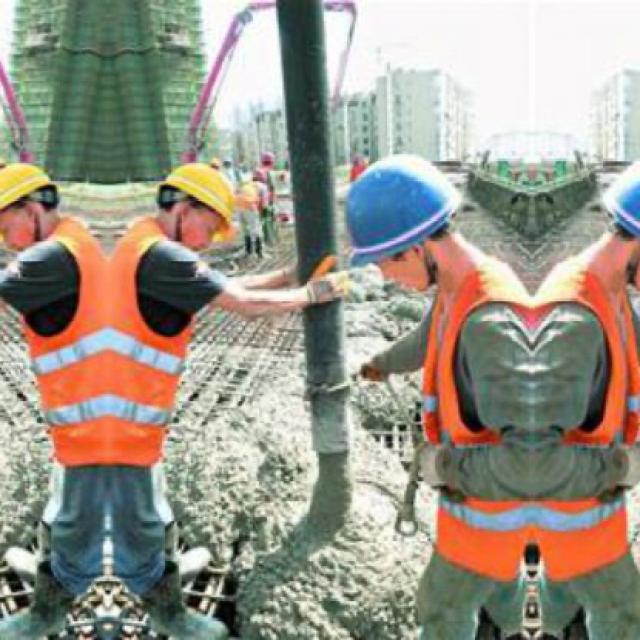helmet: (332, 137, 475, 291), (145, 154, 239, 251), (588, 136, 640, 292), (1, 152, 70, 251)
